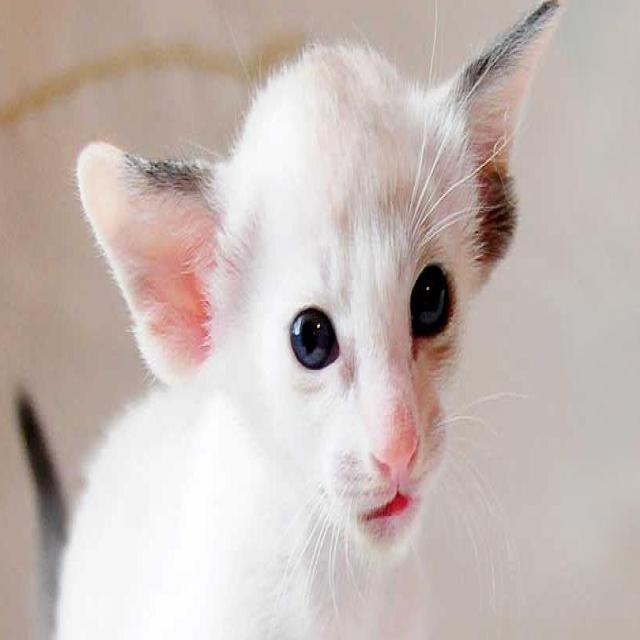Oriental: (8, 0, 565, 640)
